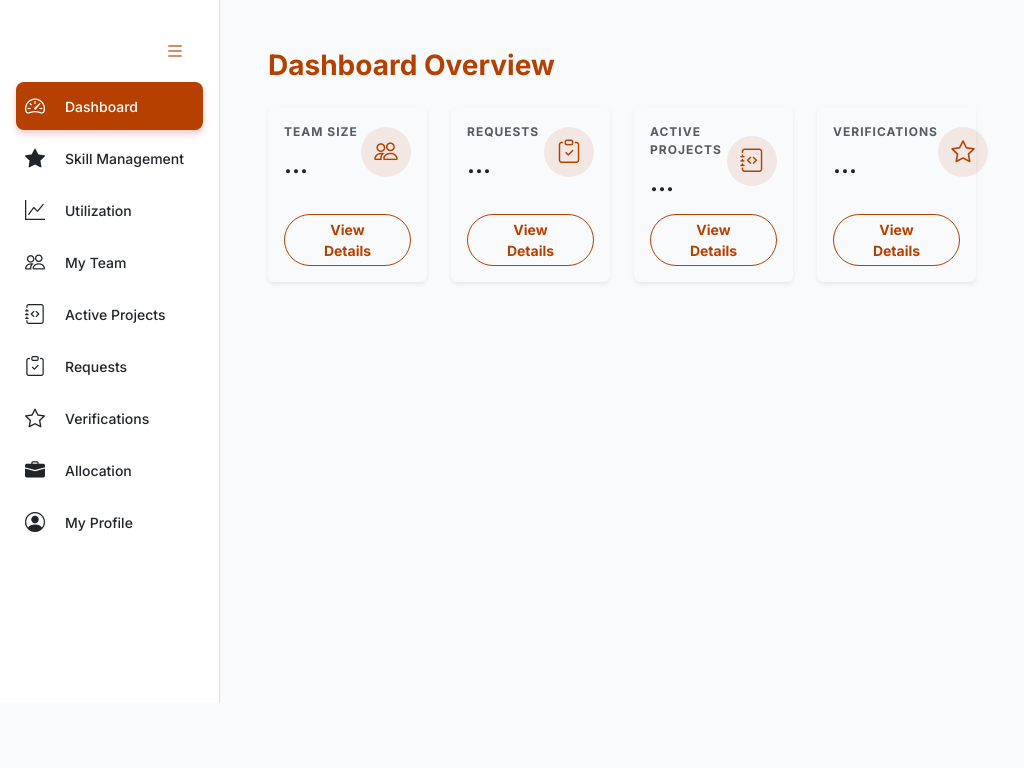
it: ManagerDashboard › handles "View Details" click on Cards
Click the button "View Details" below "Team Size": coordinates (348, 240) [284, 214, 411, 266]
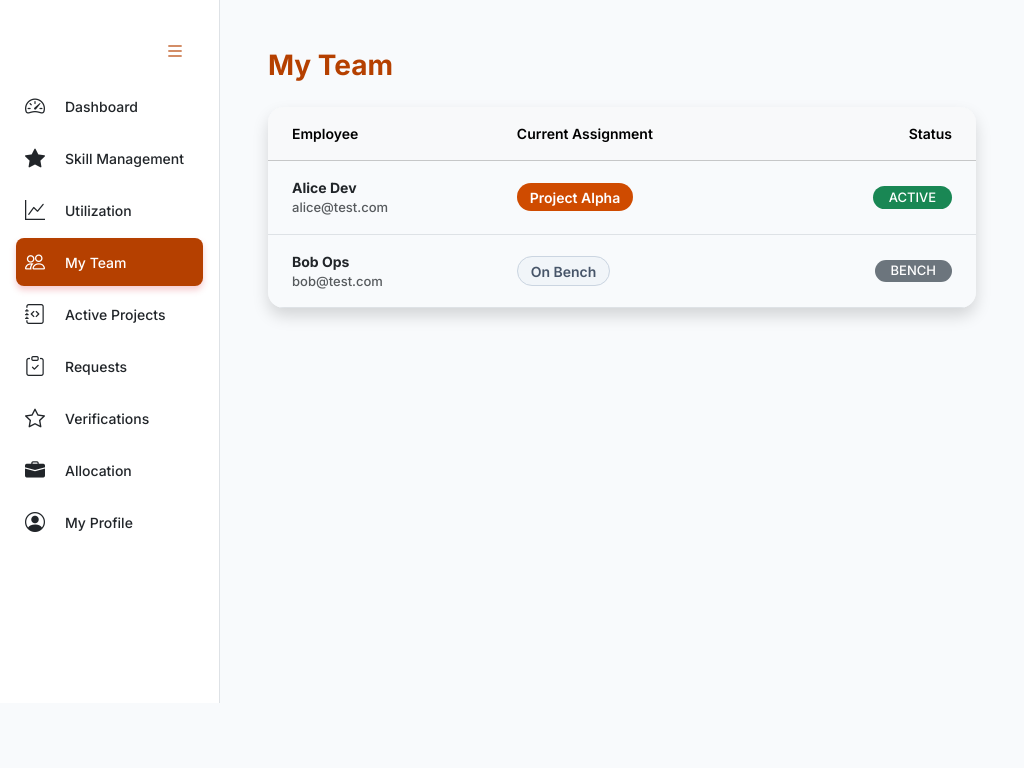
Expected: the heading "My Team" is shown, [268, 48, 393, 82]
